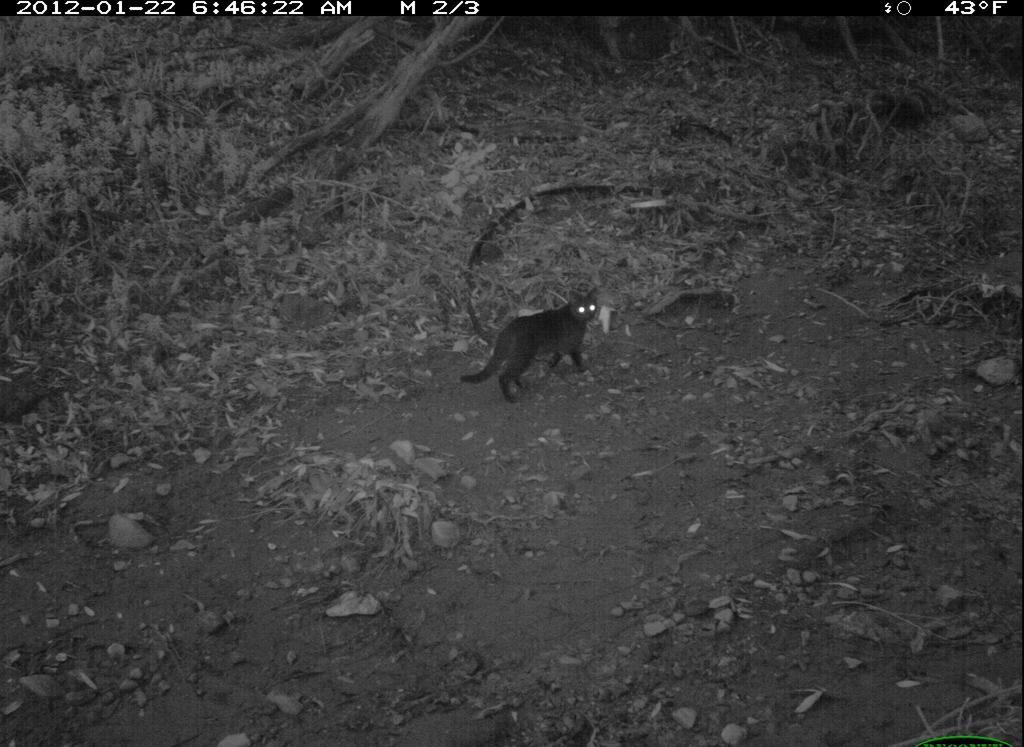cat: (451, 281, 609, 406)
